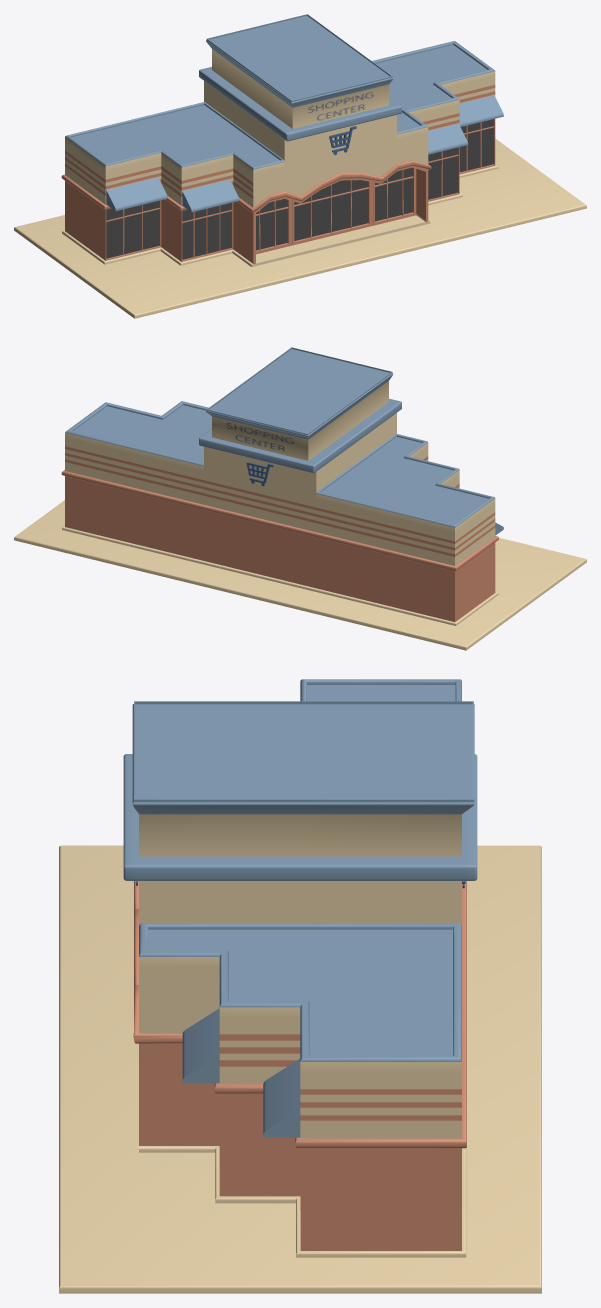
File: commercial-building-shopping-center.fbx
3 renders of one model, top to bottom at view 1: azimuth 30°, elevation 25°; view 2: azimuth 150°, elevation 25°; view 3: azimuth 270°, elevation 25°, orthographic. The views are drawn at different scales.
Visible parts, largest first — view 1: commercial-building-shopping-center; view 2: commercial-building-shopping-center; view 3: commercial-building-shopping-center.
Boxes of the visible parts, box(x1,y1,x2,y2) form: commercial-building-shopping-center: box(14, 14, 586, 318); commercial-building-shopping-center: box(14, 347, 586, 650); commercial-building-shopping-center: box(59, 679, 541, 1293).
Bounding box in the file's own units: 36.77 × 12.54 × 17.
